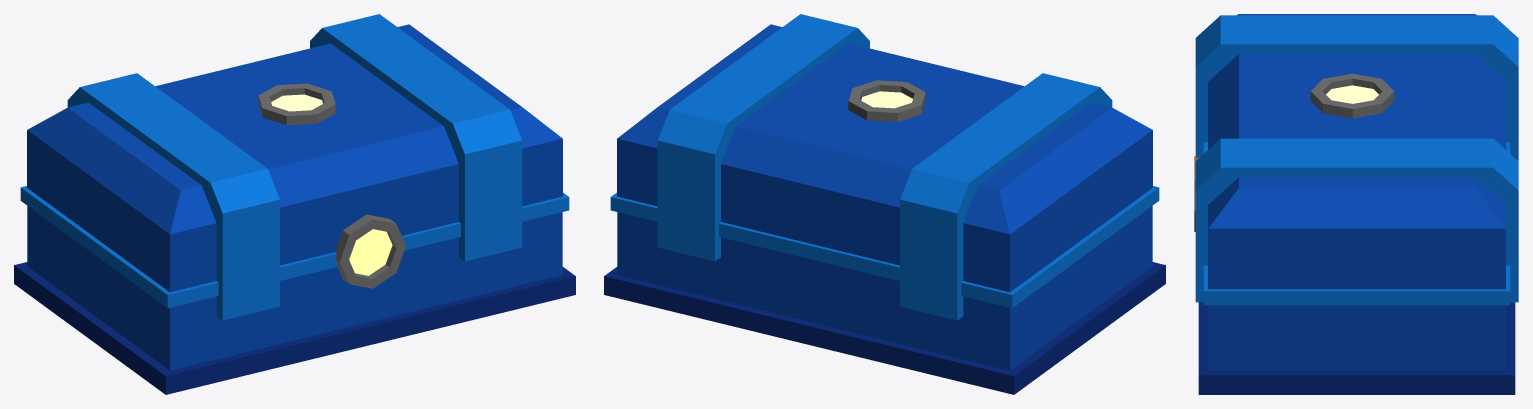
File: chest.glb
3 views of the same model, side by side, from view 1: azimuth 30°, elevation 25°; view 2: azimuth 150°, elevation 25°; view 3: azimuth 270°, elevation 25° (orthographic). The views are drawn at different scales.
Parts seen in each view (by area): view 1: Cube, Cube.003, Cube.001, Cube.002, Cube.004, Cylinder, Cylinder.001; view 2: Cube, Cube.003, Cube.001, Cube.002, Cube.004, Cylinder.001; view 3: Cube, Cube.003, Cube.001, Cube.002, Cube.004, Cylinder.001.
Boxes of the visible parts, x1,y1,x2,y2 form: Cube: (27, 24, 562, 292); Cube.003: (67, 14, 522, 320); Cube.001: (27, 206, 562, 370); Cube.002: (14, 262, 575, 394); Cube.004: (20, 186, 569, 308); Cylinder: (335, 214, 405, 288); Cylinder.001: (258, 83, 335, 125); Cube: (617, 24, 1152, 292); Cube.003: (657, 14, 1112, 320); Cube.001: (617, 206, 1152, 370); Cube.002: (604, 262, 1165, 394); Cube.004: (610, 186, 1159, 308); Cylinder.001: (848, 80, 925, 122); Cube: (1208, 14, 1505, 289); Cube.003: (1195, 15, 1518, 302); Cube.001: (1208, 305, 1505, 370); Cube.002: (1198, 302, 1515, 394); Cube.004: (1203, 142, 1510, 305); Cylinder.001: (1310, 73, 1394, 118).
Size of the model in its own units: 1.78 by 0.7953 by 1.17.
